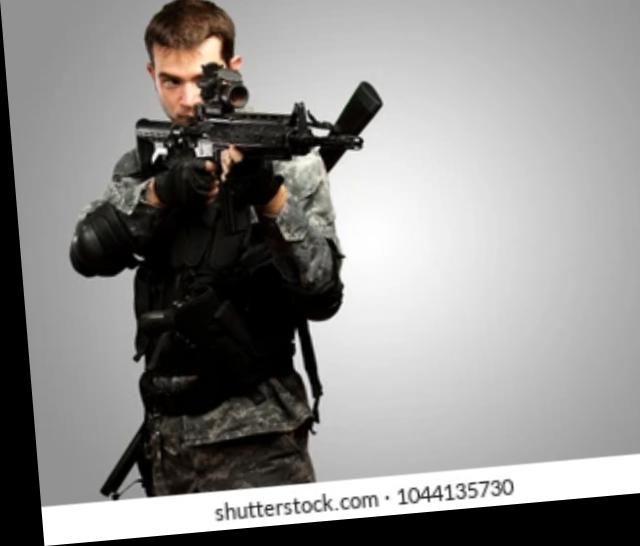other: (97, 0, 348, 493)
